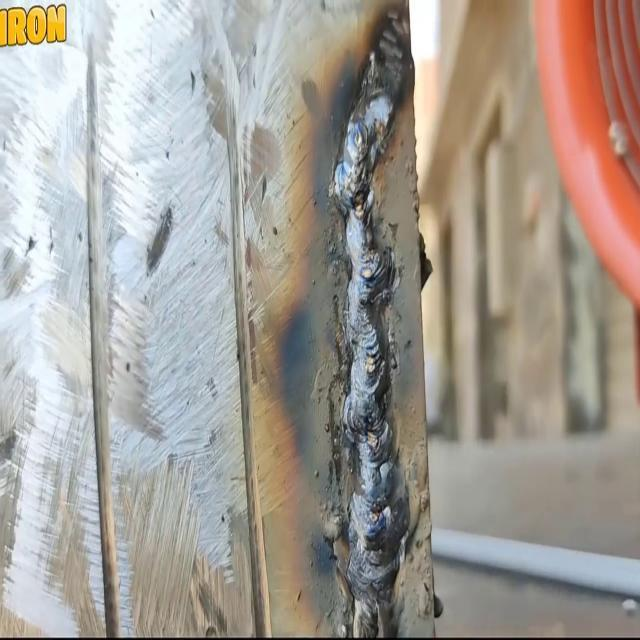Bad Welding: (334, 16, 410, 638)
